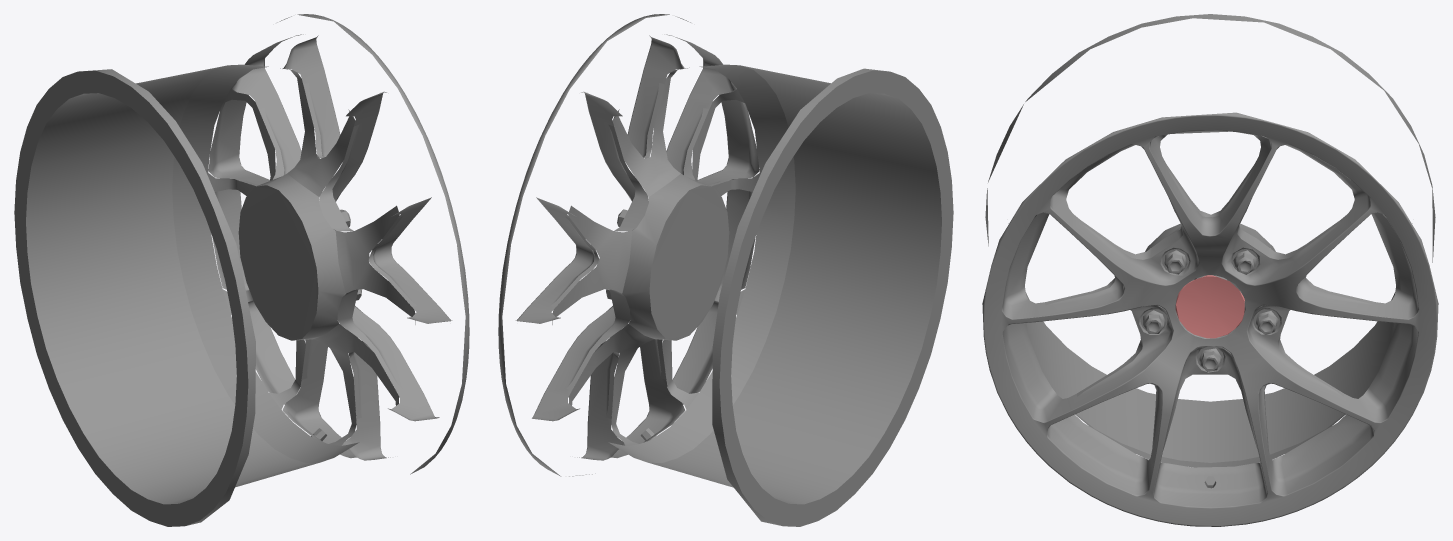
The model's file is porsche_718_cayman_gt4_mr_rim_lf_Lod1.gltf.
3 views of the same model, side by side, from view 1: azimuth 30°, elevation 25°; view 2: azimuth 150°, elevation 25°; view 3: azimuth 270°, elevation 25° (orthographic). The views are drawn at different scales.
Visible parts, largest first — view 1: porsche_718_cayman_gt4_mr_rim_lf_Lod1; view 2: porsche_718_cayman_gt4_mr_rim_lf_Lod1; view 3: porsche_718_cayman_gt4_mr_rim_lf_Lod1.
Part boxes in pixels (left/top/right/bottom): porsche_718_cayman_gt4_mr_rim_lf_Lod1: left=14, top=14, right=469, bottom=526; porsche_718_cayman_gt4_mr_rim_lf_Lod1: left=498, top=14, right=953, bottom=526; porsche_718_cayman_gt4_mr_rim_lf_Lod1: left=982, top=14, right=1438, bottom=526.
Size of the model in its own units: 0.267 by 0.4977 by 0.4985.
